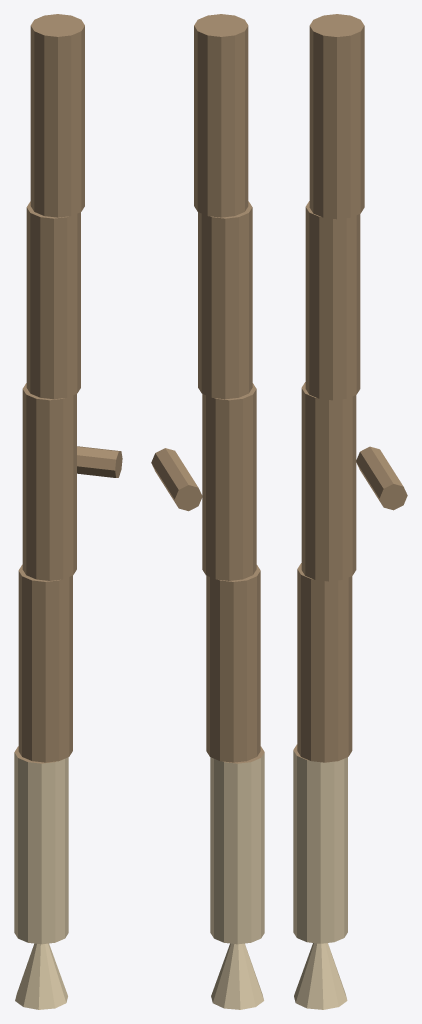
File: stick_2.glb
3 renders of one model, left to right at view 1: azimuth 30°, elevation 25°; view 2: azimuth 150°, elevation 25°; view 3: azimuth 330°, elevation 25°, orthographic.
Visible parts, largest first — view 1: WoodenStick; view 2: WoodenStick; view 3: WoodenStick.
Boxes of the visible parts, x1,y1,x2,y2 form: WoodenStick: (14, 14, 122, 1009); WoodenStick: (151, 14, 264, 1009); WoodenStick: (293, 14, 407, 1009).
Bounding box in the file's own units: 0.0683 × 0.59 × 0.0533.
